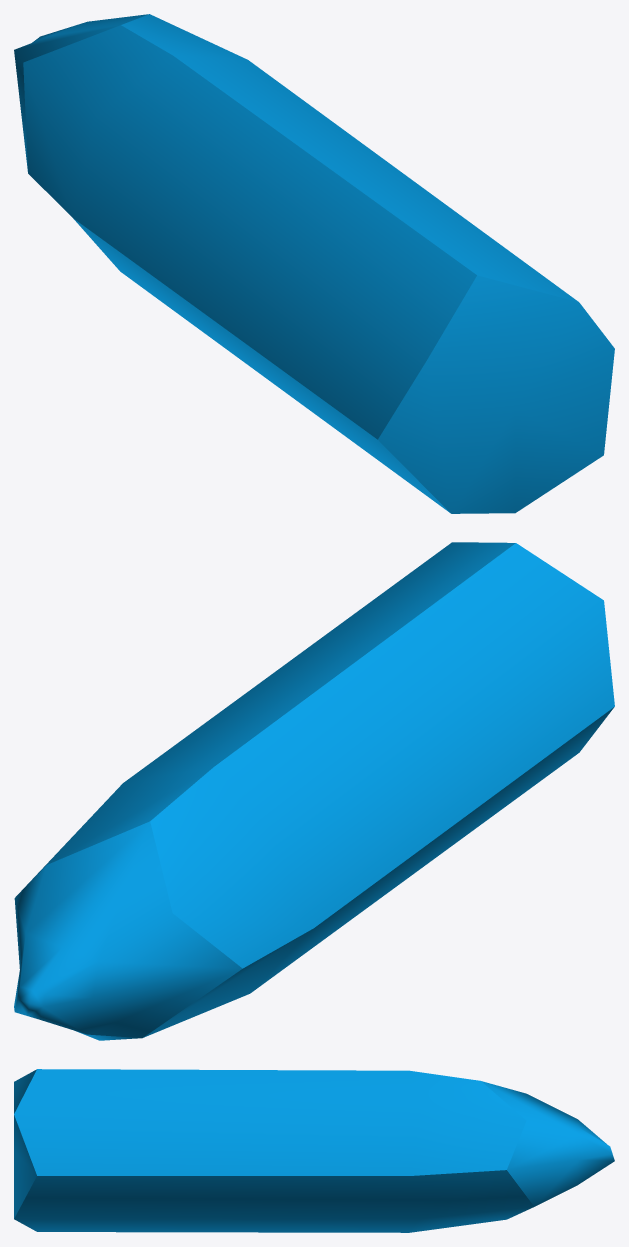
File: crystal1.fbx
3 renders of one model, top to bottom at view 1: azimuth 30°, elevation 25°; view 2: azimuth 150°, elevation 25°; view 3: azimuth 270°, elevation 25°, orthographic. The views are drawn at different scales.
Parts seen in each view (by area): view 1: pCube9; view 2: pCube9; view 3: pCube9.
Part boxes in pixels (bbox=[...]): pCube9: bbox=[14, 14, 614, 513]; pCube9: bbox=[14, 542, 614, 1040]; pCube9: bbox=[14, 1069, 614, 1232].
Size of the model in its own units: 1.62 by 1.6 by 5.73.
